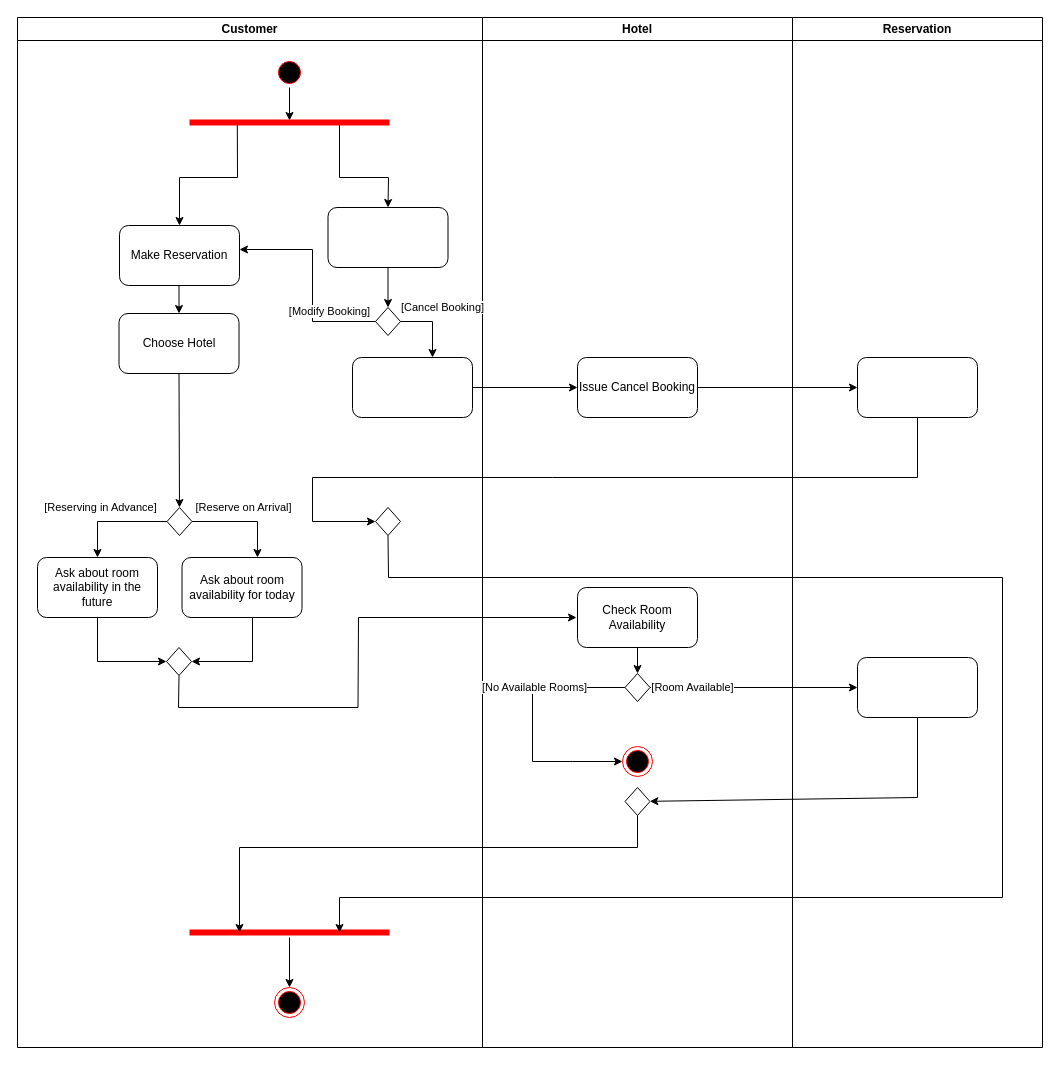
Some shapes in this 1060 by 1065 pixel diagram are drawn without their labels. The shapes that lost their labels are listed below. From the top down, each one's centre as x and y in pixels, then its label:
At [387,237]: "Adjust Reservation".
At [412,387]: "Request Cancellation".
At [917,387]: "Compile Cancellation Details".
At [917,687]: "Complete Reservation".
